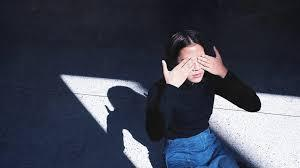Persons: (161, 27, 224, 91)
